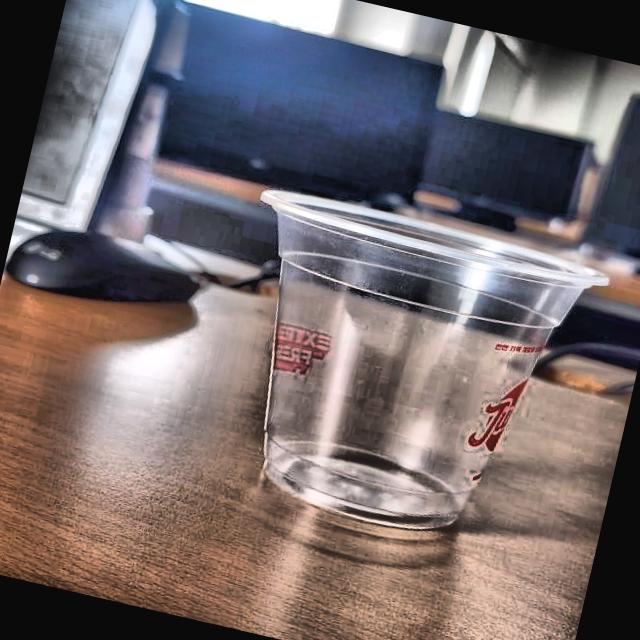plastic cup: (192, 178, 619, 563)
